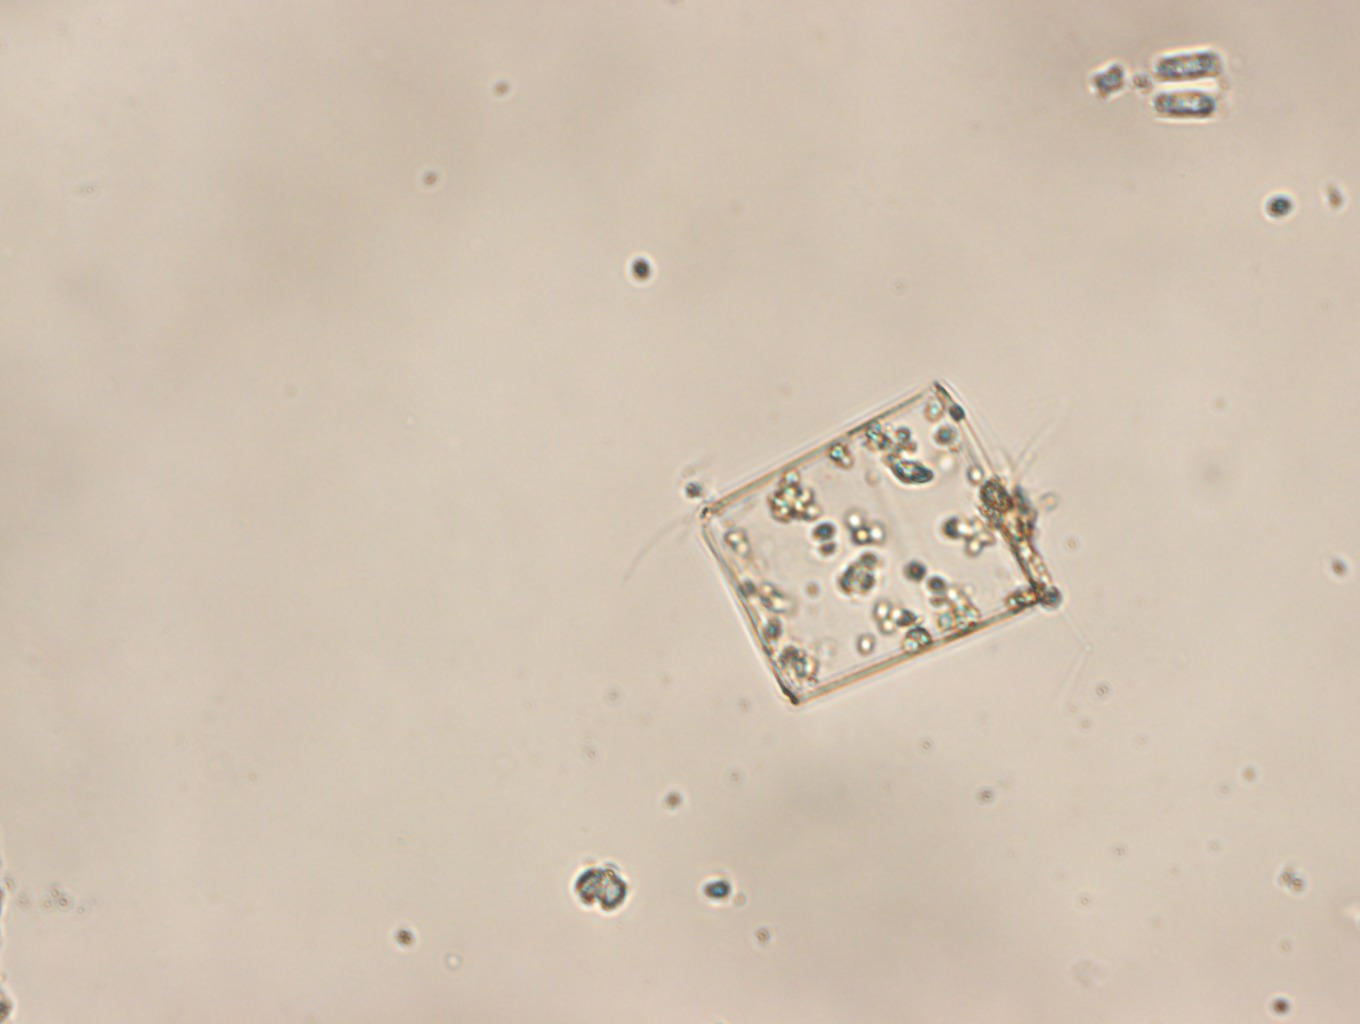guinardia flaccida: (699, 375, 1059, 708)
